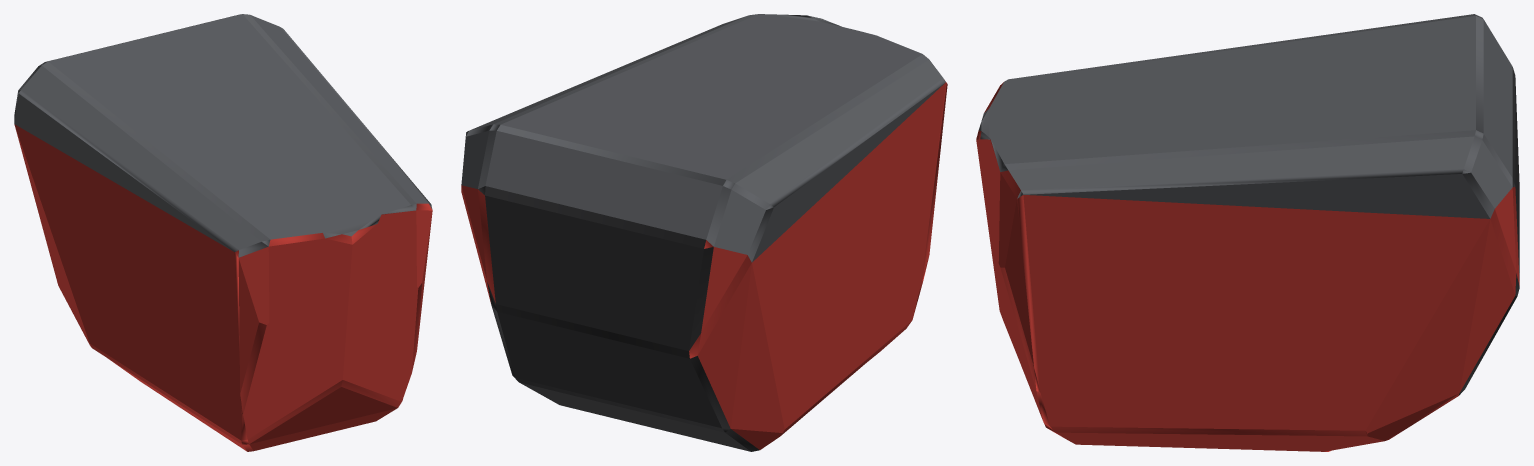
File: SM_SB_Armor_pelvis.fbx
The picture shows the model from 3 angles, left to right: view 1: azimuth 30°, elevation 25°; view 2: azimuth 150°, elevation 25°; view 3: azimuth 270°, elevation 25°; orthographic projection. The views are drawn at different scales.
Visible parts, largest first — view 1: SM_SB_Armor_pelvis; view 2: SM_SB_Armor_pelvis; view 3: SM_SB_Armor_pelvis.
Part boxes in pixels (x1=…): SM_SB_Armor_pelvis: x1=14, y1=14, x2=432, y2=451; SM_SB_Armor_pelvis: x1=461, y1=14, x2=947, y2=451; SM_SB_Armor_pelvis: x1=976, y1=14, x2=1519, y2=451.
Bounding box in the file's own units: 20.4 × 30.08 × 20.92.
